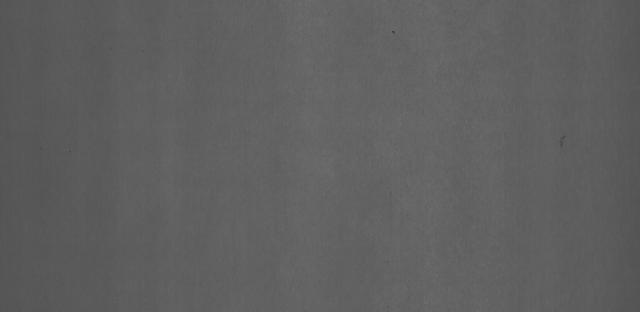inclusion: (554, 130, 578, 155), (384, 21, 408, 45)
